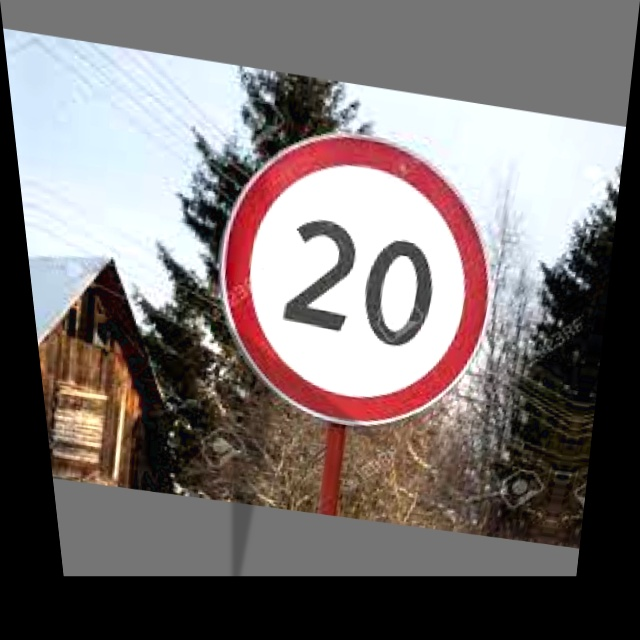Speed_Limit_20: (195, 116, 523, 435)
